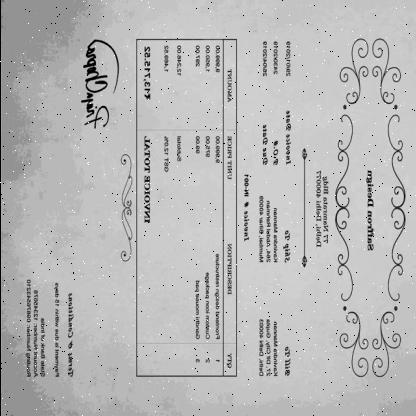Paragraph: (24, 278, 74, 379), (262, 41, 290, 166), (258, 195, 290, 264), (258, 318, 290, 378), (314, 170, 328, 248), (365, 169, 373, 251), (242, 175, 248, 243)
Table: (136, 39, 236, 377)
